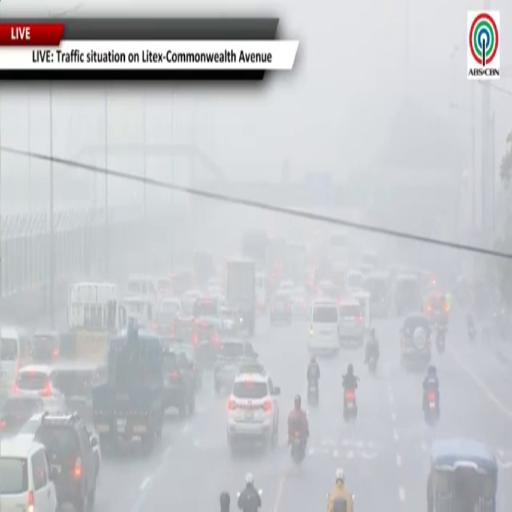car: (34, 413, 98, 511), (227, 364, 280, 451), (0, 437, 58, 511), (51, 361, 106, 420), (12, 365, 65, 410), (214, 340, 257, 393), (164, 345, 195, 417), (162, 339, 202, 390), (0, 396, 44, 437), (400, 313, 431, 370), (308, 299, 339, 355), (192, 318, 220, 367), (339, 298, 365, 346), (364, 271, 390, 317), (394, 274, 423, 315), (153, 298, 181, 335), (30, 331, 61, 363), (424, 292, 449, 326), (86, 425, 101, 477), (18, 411, 45, 438), (270, 292, 292, 325), (195, 296, 219, 325), (291, 287, 309, 318), (220, 307, 240, 334), (345, 269, 364, 296), (316, 281, 339, 300), (277, 280, 296, 292)
motorcycle: (424, 390, 439, 425), (291, 431, 305, 465), (343, 389, 357, 421), (307, 380, 318, 406), (436, 329, 445, 354), (334, 499, 347, 511), (369, 356, 377, 374), (468, 325, 476, 341), (258, 489, 262, 497)
truck: (92, 319, 164, 453), (65, 282, 127, 363), (226, 260, 255, 335), (241, 229, 269, 271), (266, 237, 286, 294), (283, 243, 306, 285), (192, 250, 215, 287)
